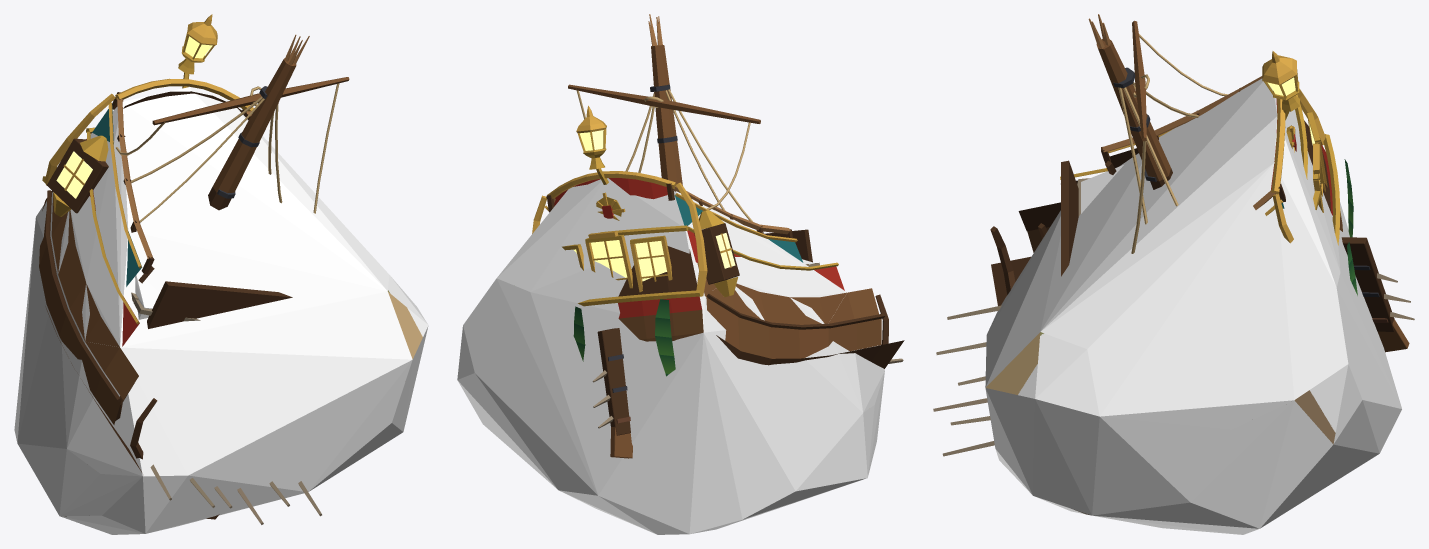
The model's file is sunken_galleon_stern.glb.
The picture shows the model from 3 angles, left to right: view 1: azimuth 30°, elevation 25°; view 2: azimuth 150°, elevation 25°; view 3: azimuth 270°, elevation 25°; orthographic projection. The views are drawn at different scales.
Visible parts, largest first — view 1: col_stern_hull, SunkenGalleonStern, col_stern_deck; view 2: col_stern_hull, SunkenGalleonStern; view 3: col_stern_hull, SunkenGalleonStern, col_stern_deck.
Boxes of the visible parts, x1,y1,x2,y2 form: col_stern_hull: (14, 87, 428, 534); SunkenGalleonStern: (39, 14, 422, 524); col_stern_deck: (135, 273, 159, 319); col_stern_hull: (457, 178, 884, 534); SunkenGalleonStern: (532, 14, 904, 458); col_stern_hull: (985, 78, 1401, 534); SunkenGalleonStern: (933, 14, 1414, 515); col_stern_deck: (1081, 165, 1123, 213).
Bounding box in the file's own units: 9.93 × 11.89 × 10.57.
